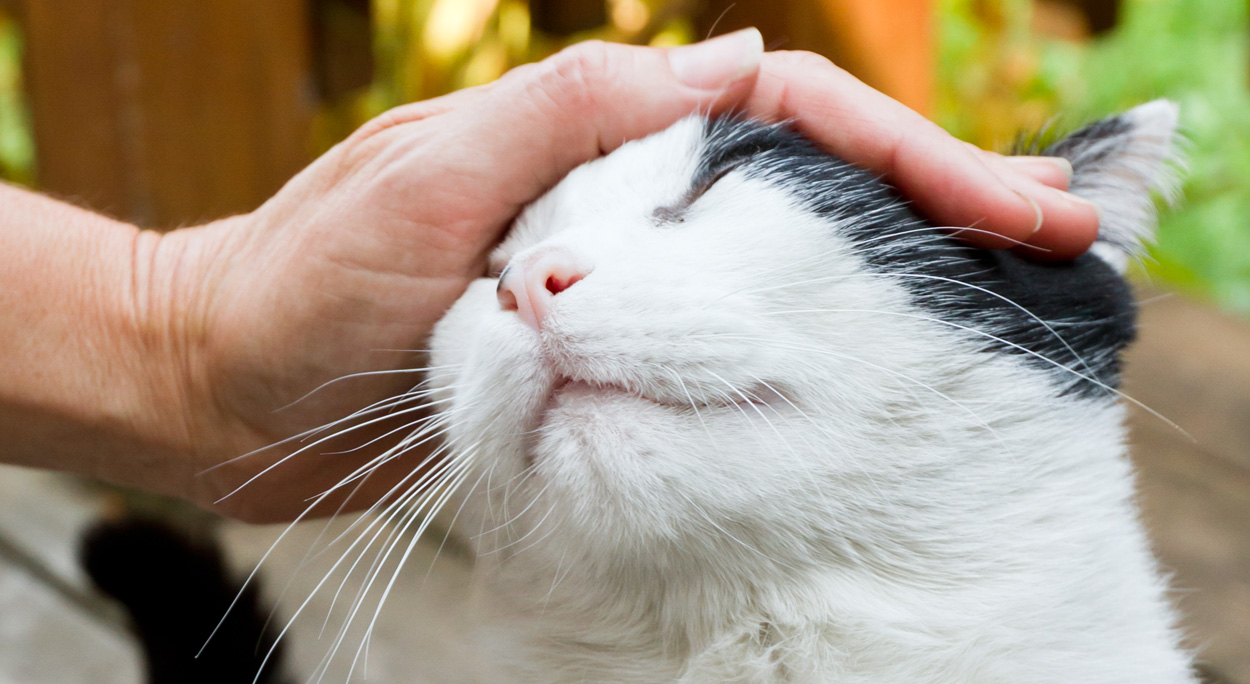Cat: (414, 107, 1201, 666)
